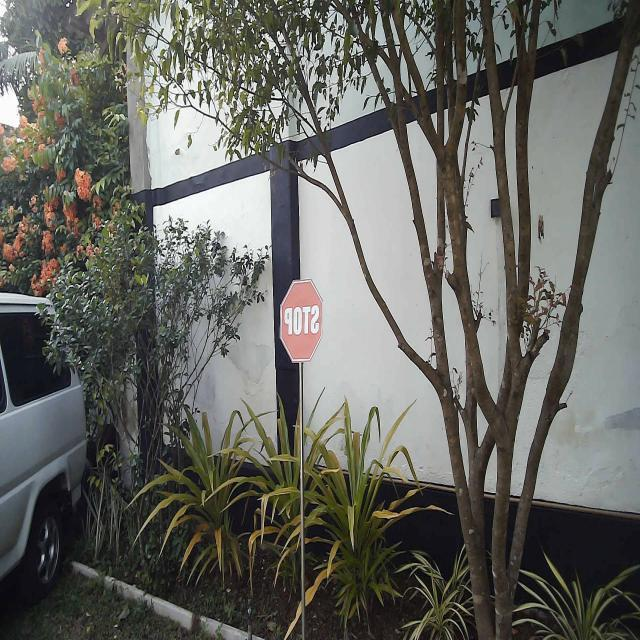stop: (277, 276, 325, 366)
